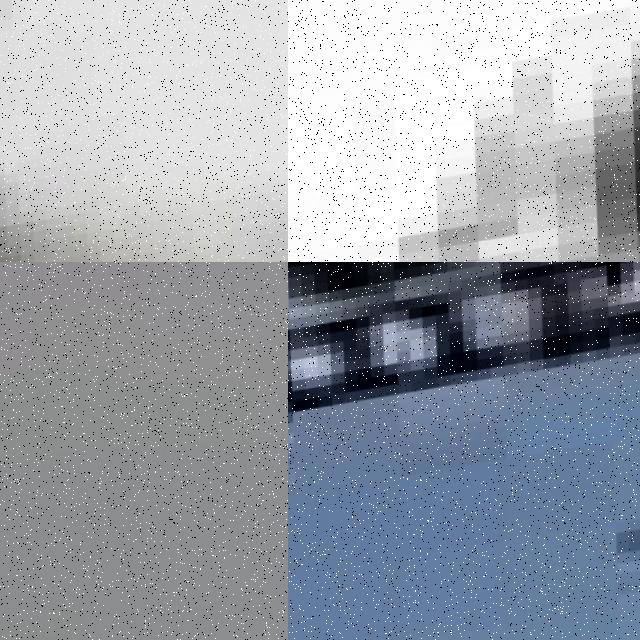drone: (288, 262, 640, 640), (288, 0, 640, 262), (0, 0, 288, 262)
